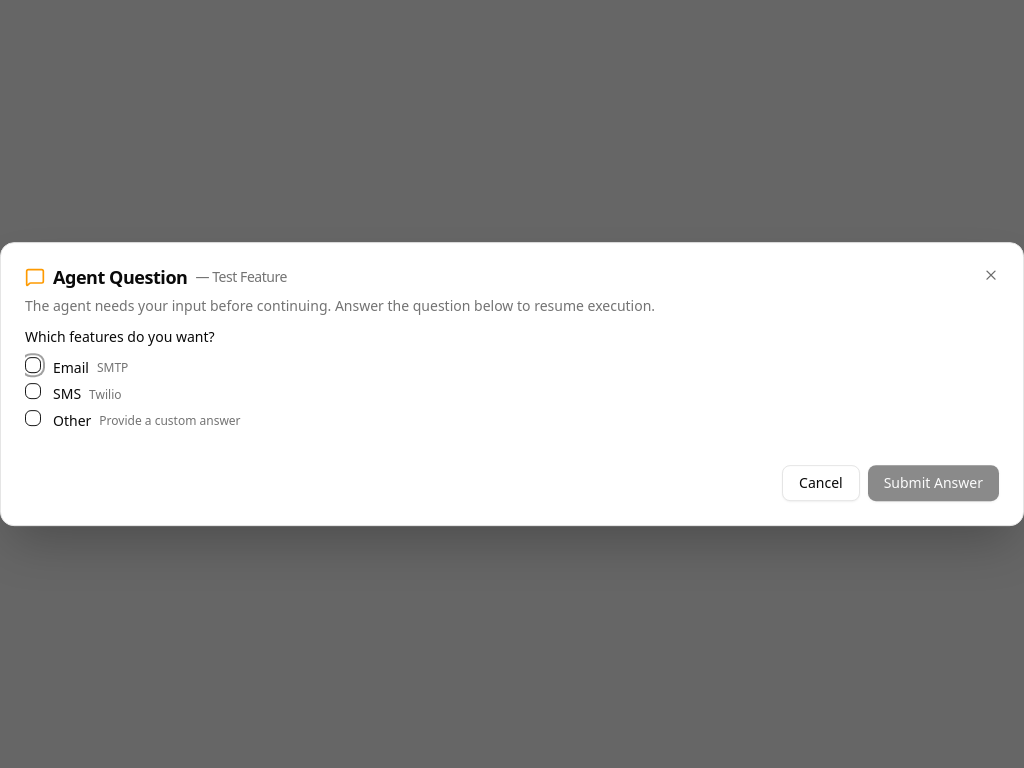
Test: QuestionDialog — Submit gating with Other option › disables submit when multi-select Other is checked but no text is entered
# Check Other only — no regular options, no text
Click the checkbox next to "Other": click(33, 418) [25, 410, 41, 426]
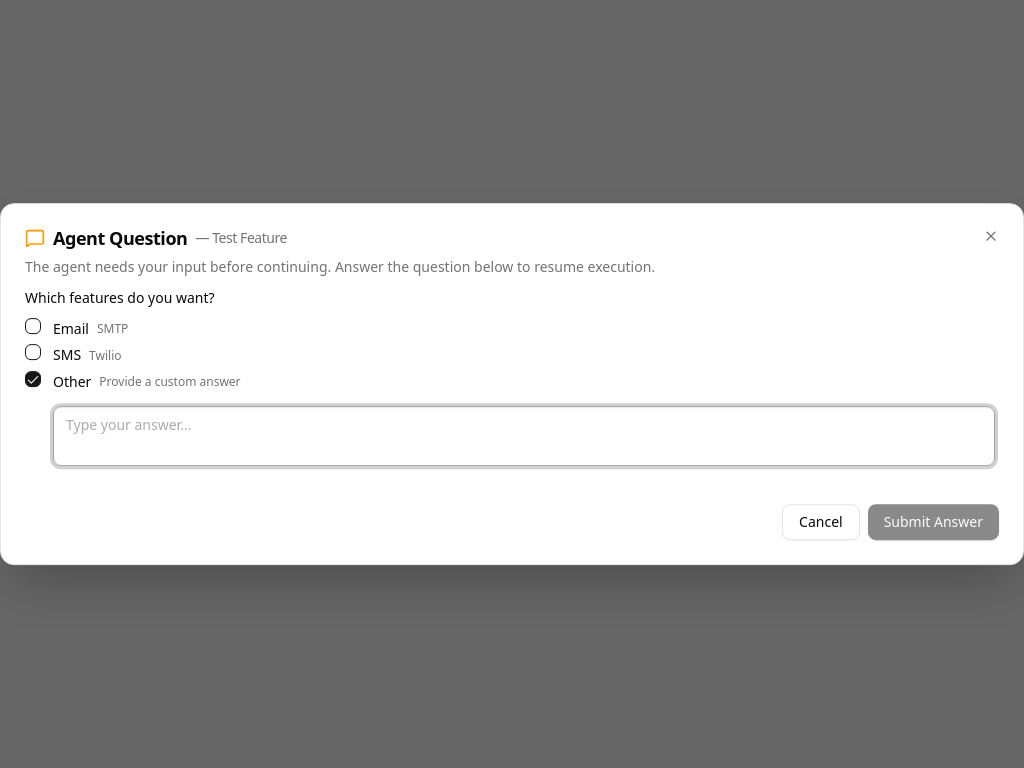
Expected: the button "Submit Answer" is disabled, [868, 504, 999, 540]
# Type text → enables
In the text box with placeholder "Type your answer...": (524, 436) [53, 406, 995, 466], type "Push"
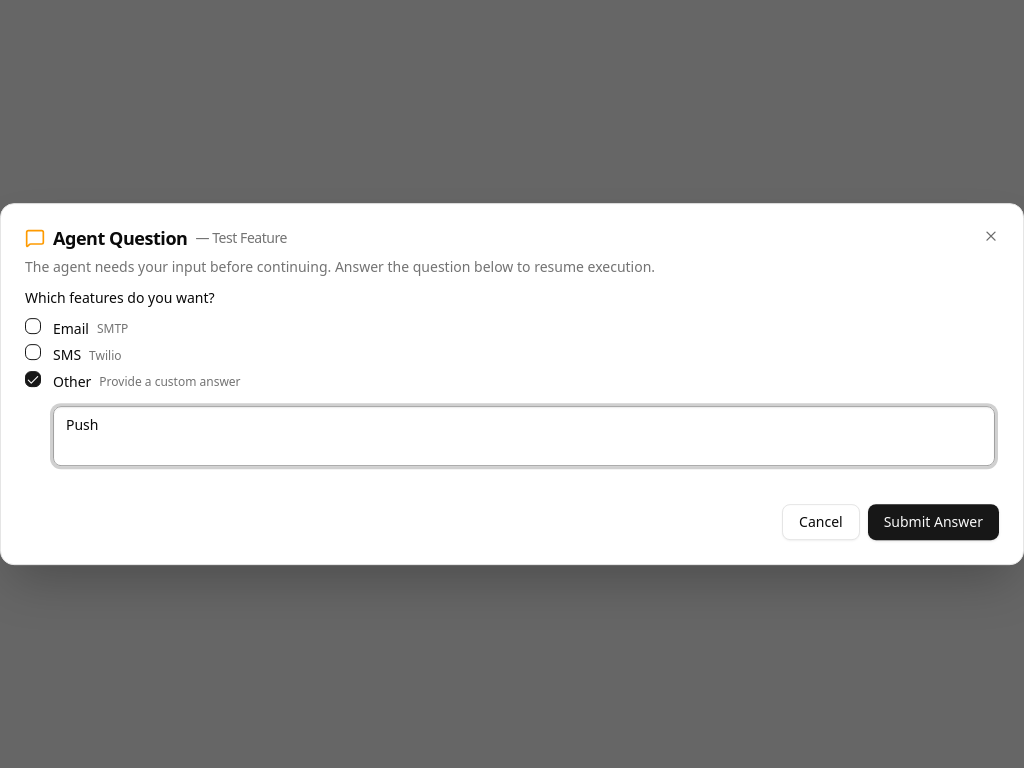
Expected: the button "Submit Answer" is enabled, [868, 504, 999, 540]
